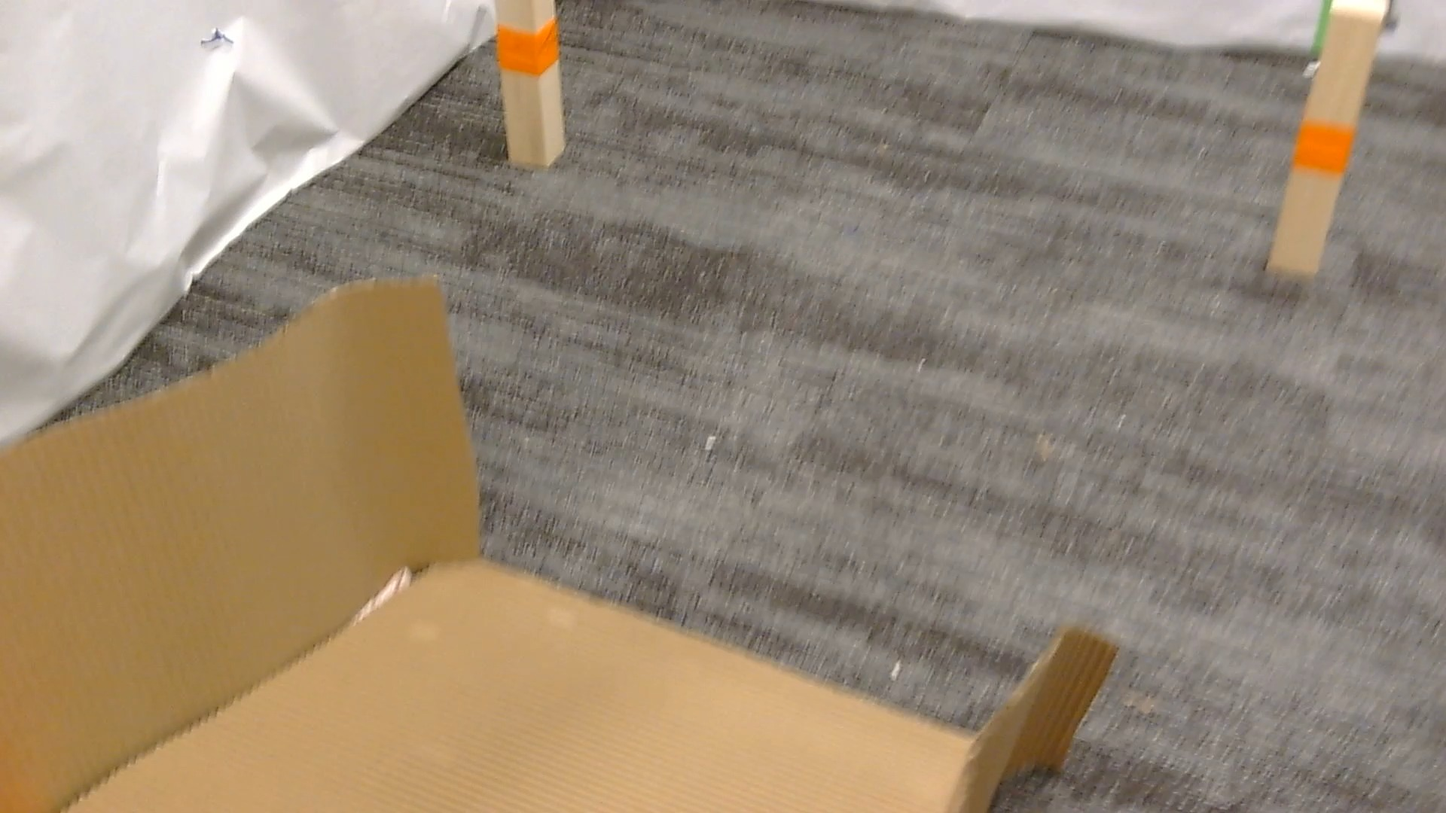Ramp: (0, 279, 1115, 812)
Wooden Block: (1268, 0, 1386, 281), (496, 0, 564, 168)
